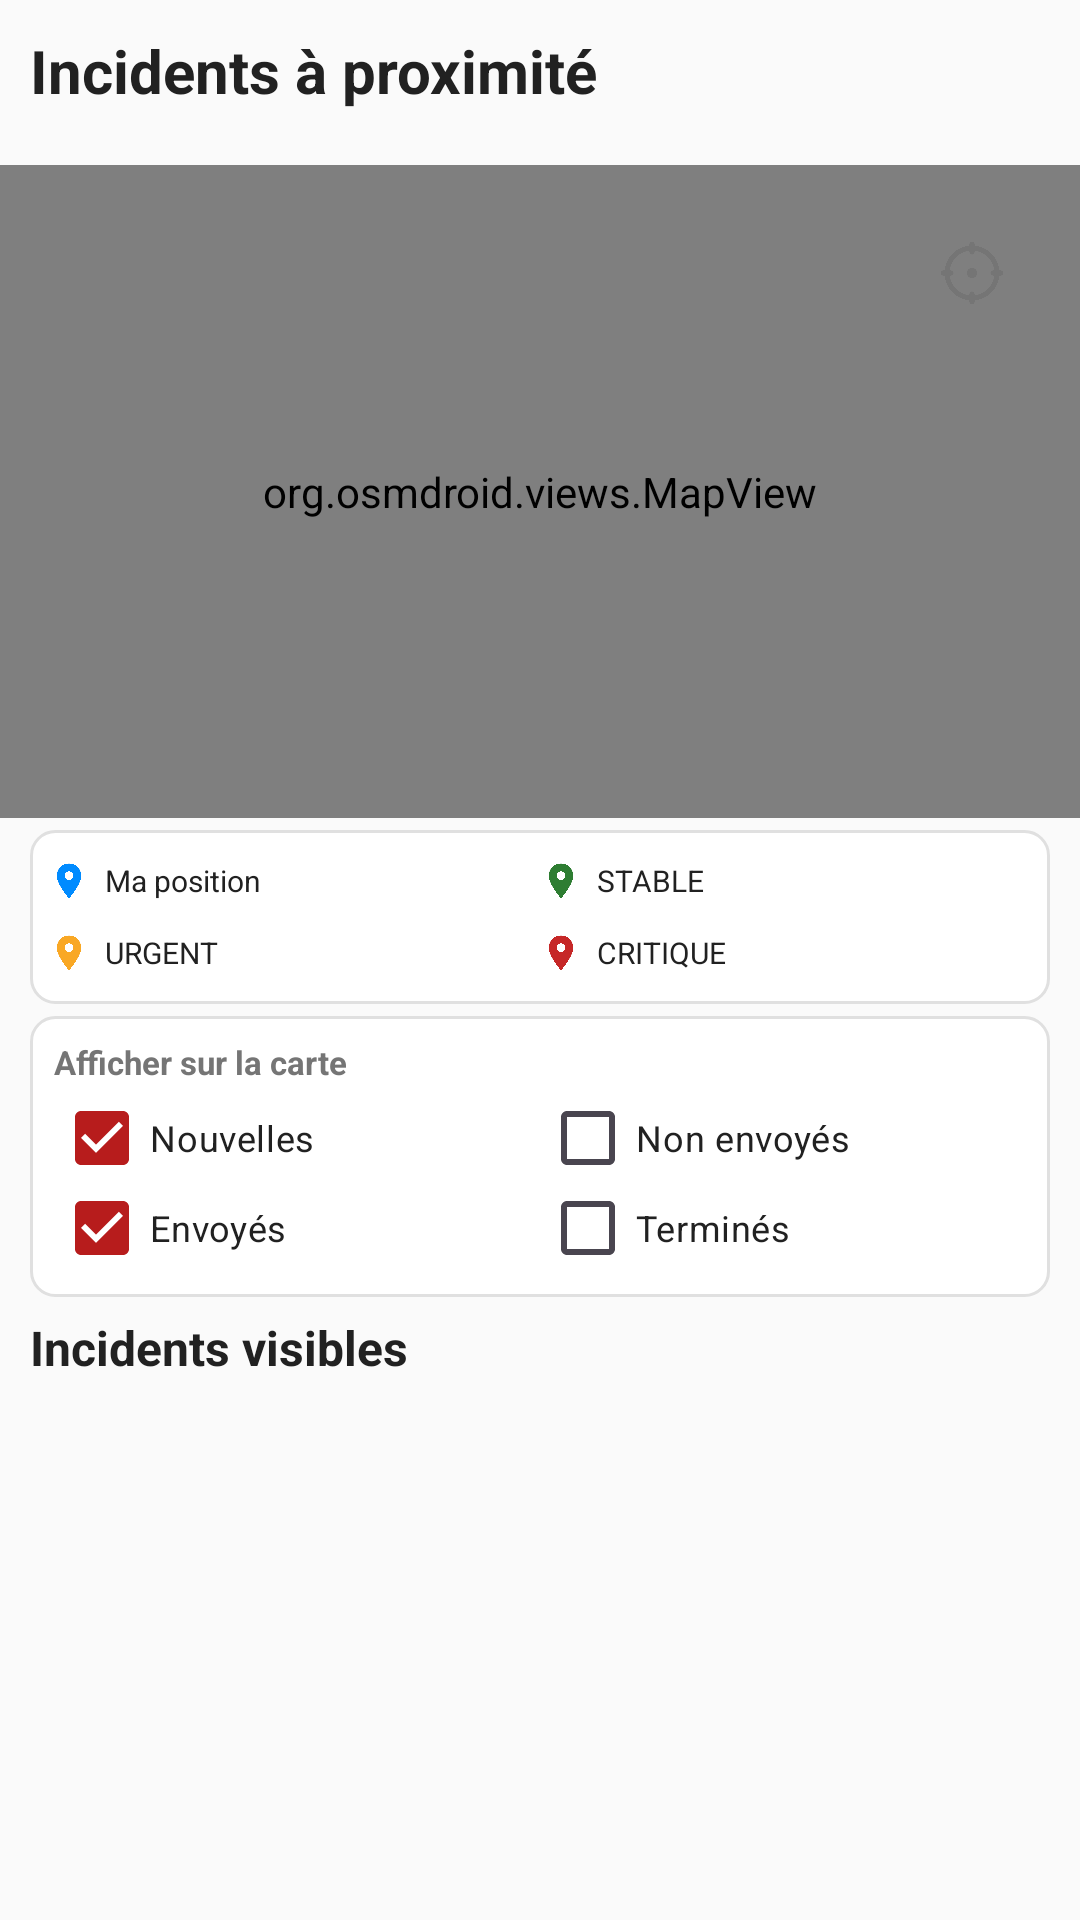

Where to tap for icons on this 1080x1920 app screen, as point (x, y):
map marker: point (69, 880), point (561, 880), point (69, 952), point (561, 952)
